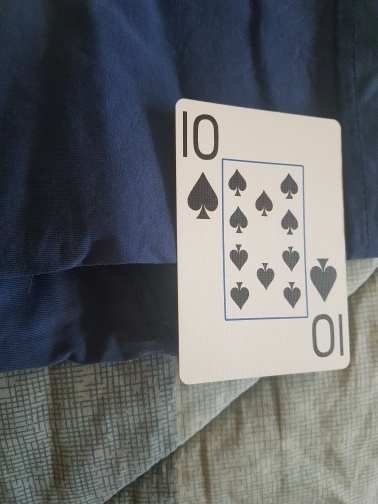ten: (175, 97, 351, 385)
